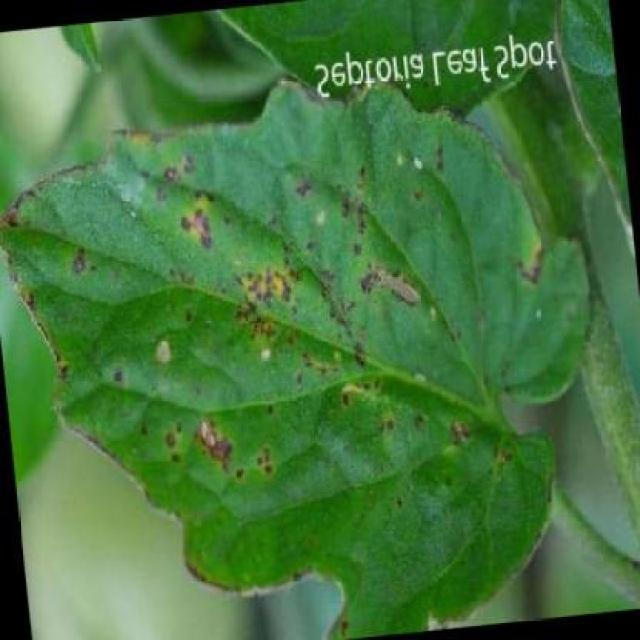Septoria leaf spot: (1, 96, 556, 639)
